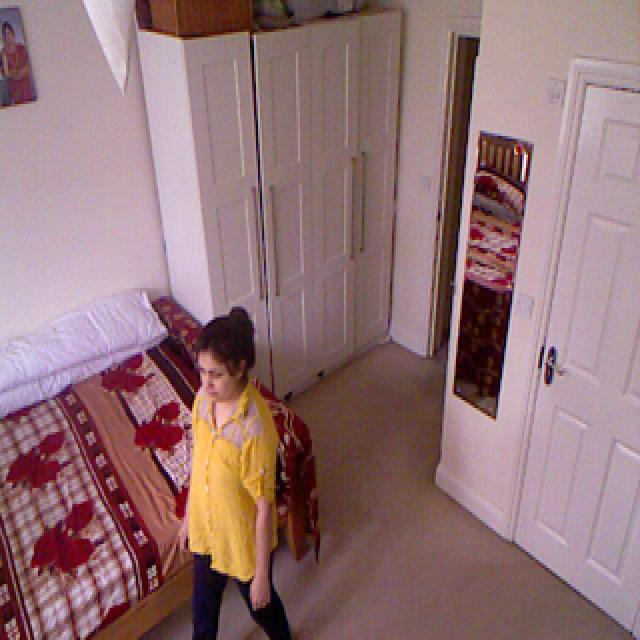standing: (178, 306, 318, 640)
